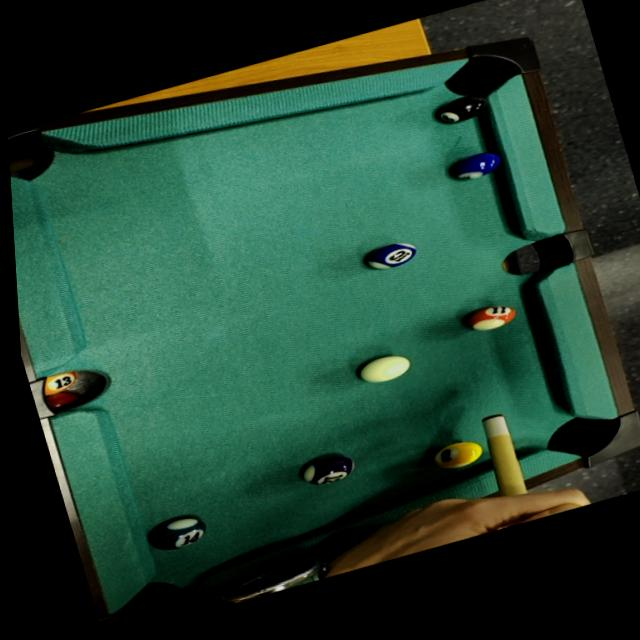cue ball: (354, 344, 415, 387)
other: (139, 508, 216, 560), (297, 448, 363, 492), (425, 433, 489, 478), (359, 231, 423, 274), (433, 85, 497, 128), (459, 295, 521, 337), (442, 147, 506, 185)
